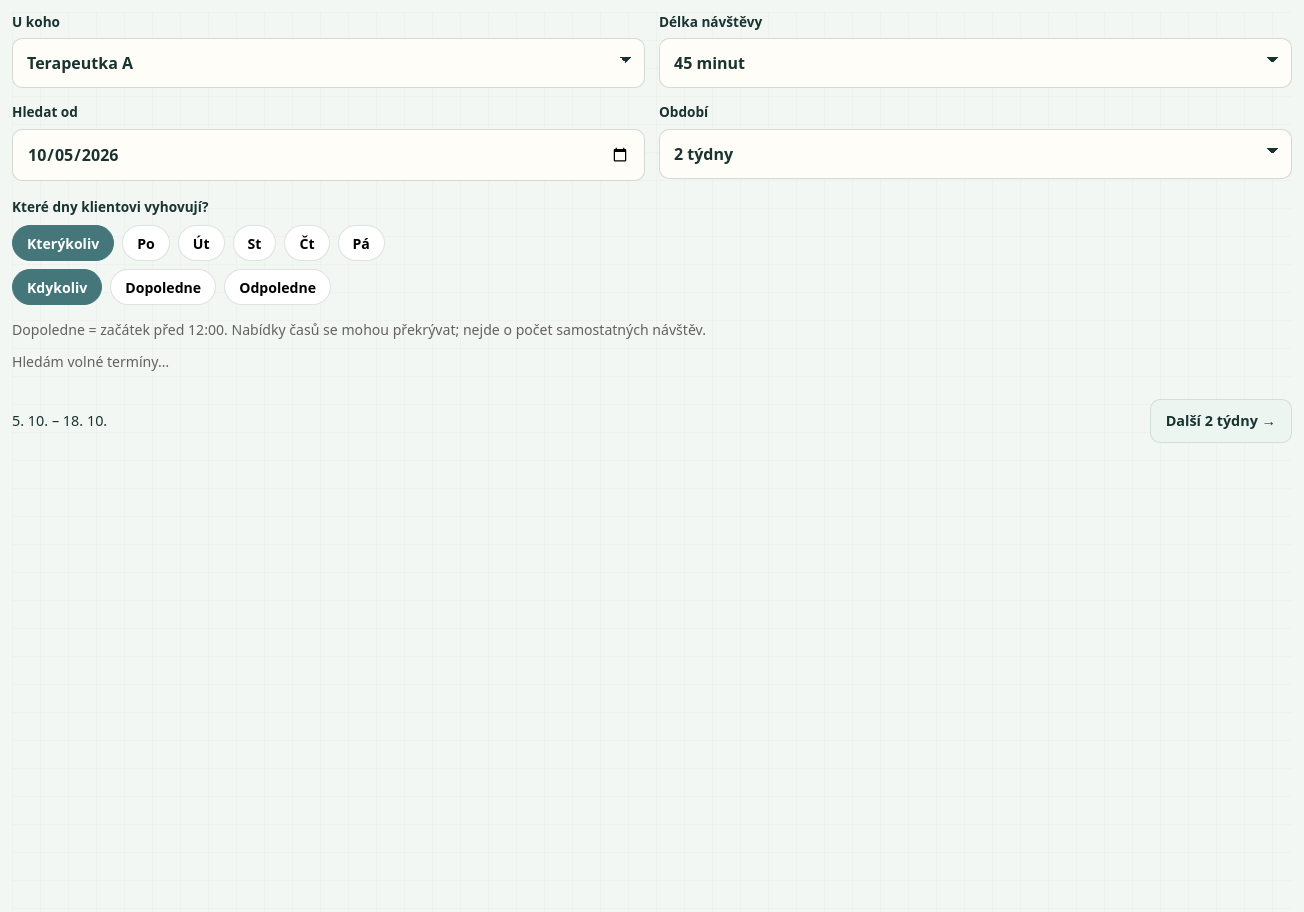
Test: availability search › filters actual results to Mondays and mornings, including the current day
The image size is (1304, 912).
Click the button "Po". click: (146, 243)
box: x1=122 y1=225 x2=170 y2=261
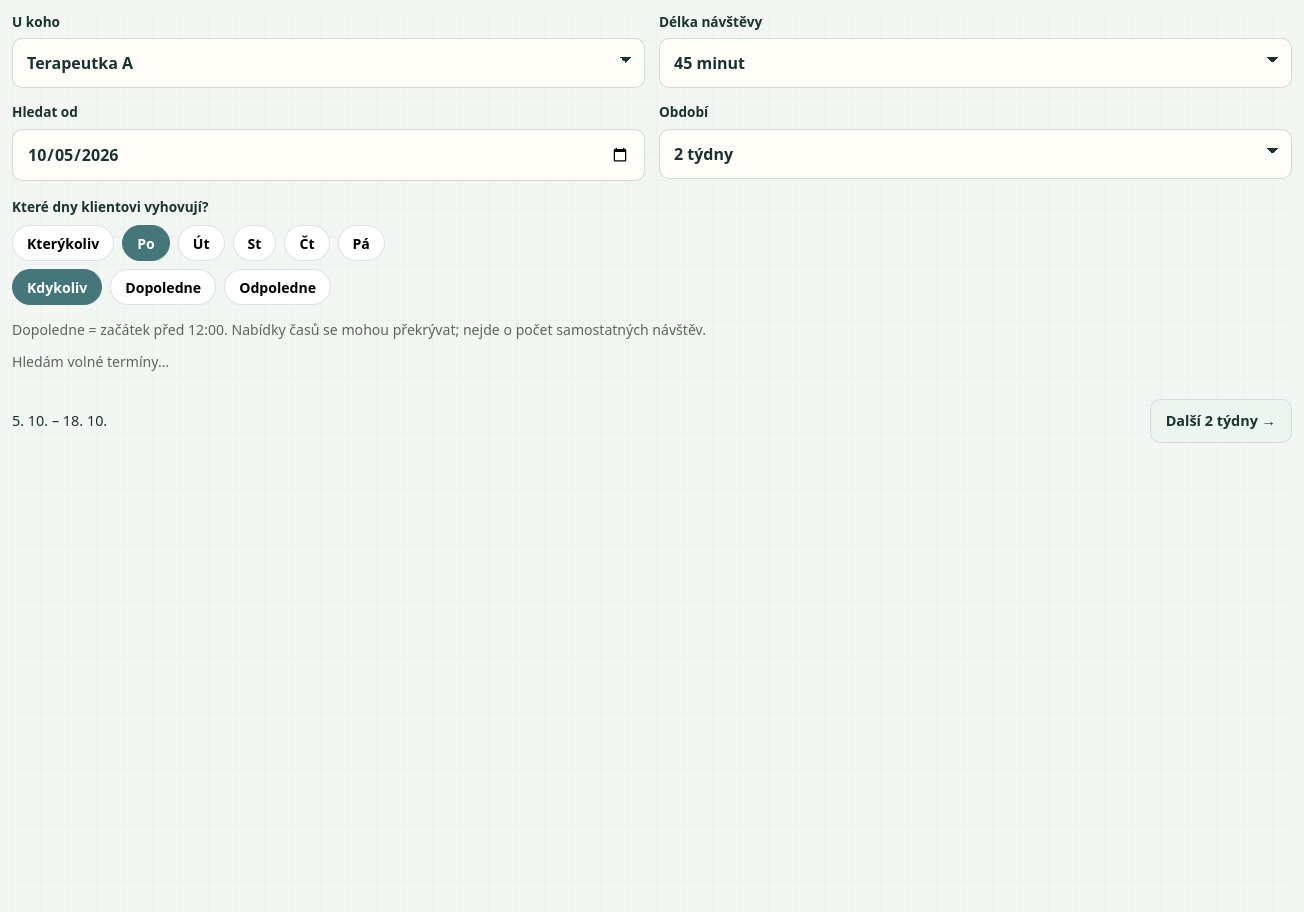
Click the button "Dopoledne". click: (163, 287)
box: x1=110 y1=269 x2=216 y2=305
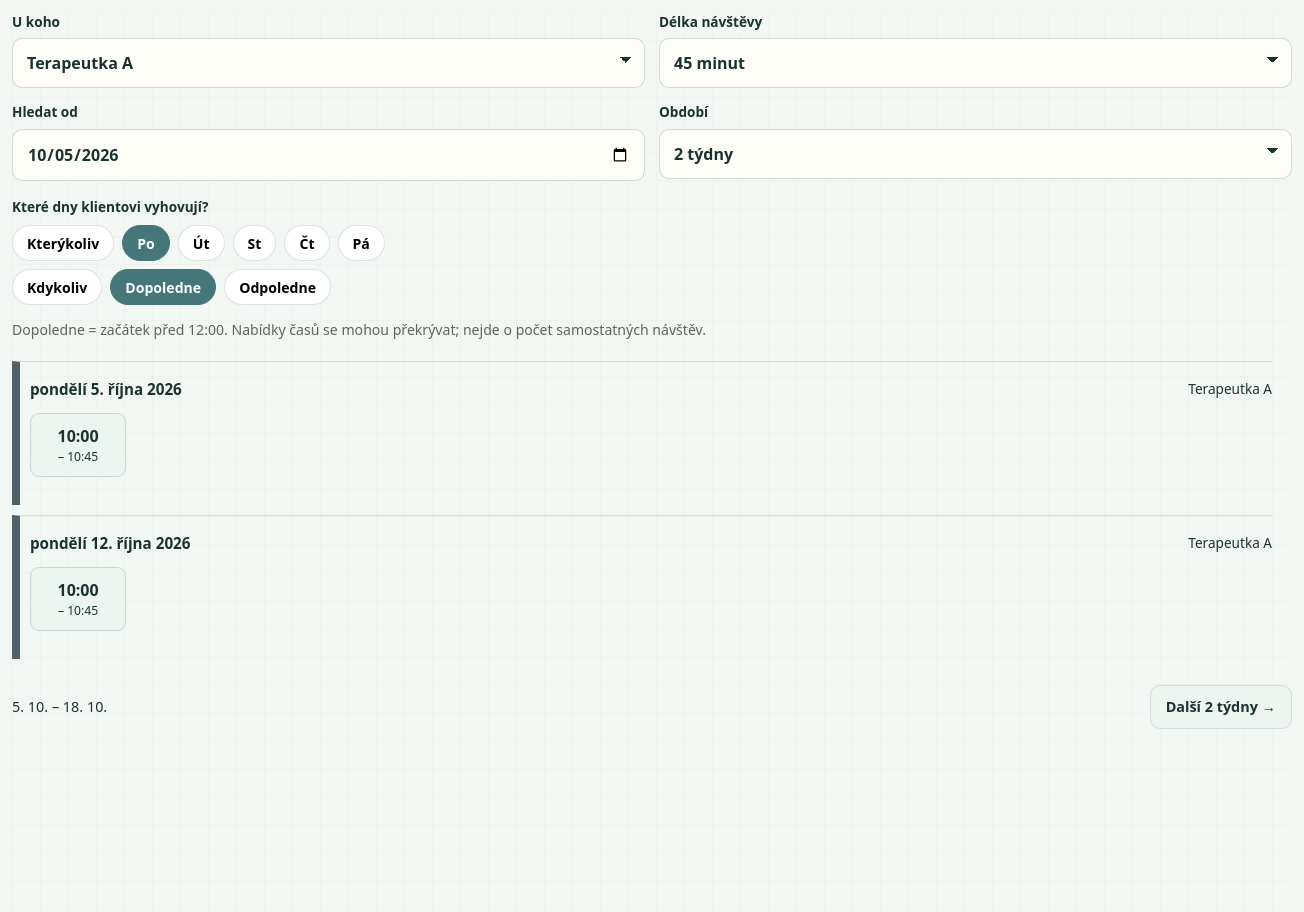
Now the number of buttons named "Terapeutka A, 10:00" is 2, box x1=30 y1=413 x2=126 y2=477; x1=30 y1=567 x2=126 y2=631
